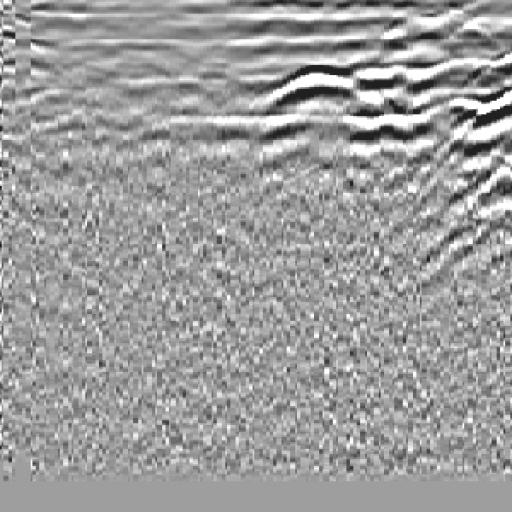metalic: (247, 54, 389, 127)
